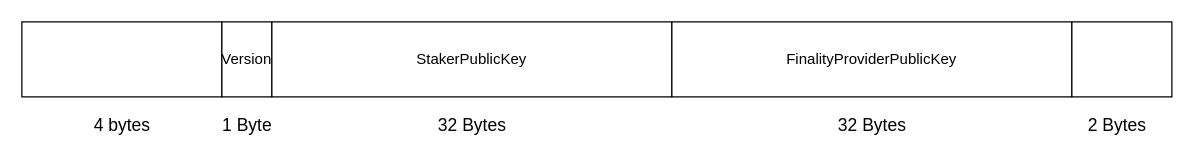
Image size: 1194x166. Some labels were removed from this diagram. The centre of each missing label's shape, as x and y in pixels:
MagicByte: point (121, 59)
StakingTime: point (1121, 59)
